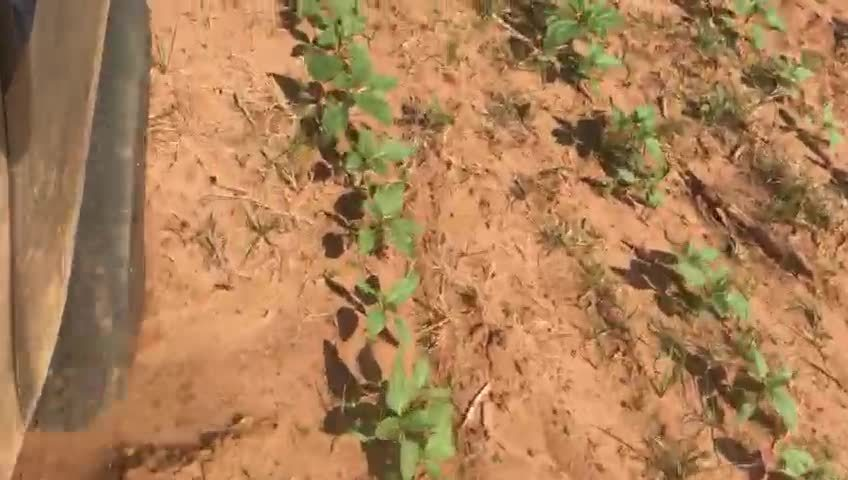sunflower: (350, 355, 465, 472), (311, 41, 401, 141), (724, 342, 814, 433), (656, 242, 751, 327), (599, 102, 680, 182), (351, 182, 434, 260), (541, 5, 634, 71), (354, 271, 419, 347), (336, 125, 419, 181), (299, 5, 386, 46), (763, 444, 836, 477), (770, 45, 821, 90), (733, 5, 784, 48), (815, 99, 837, 160)
